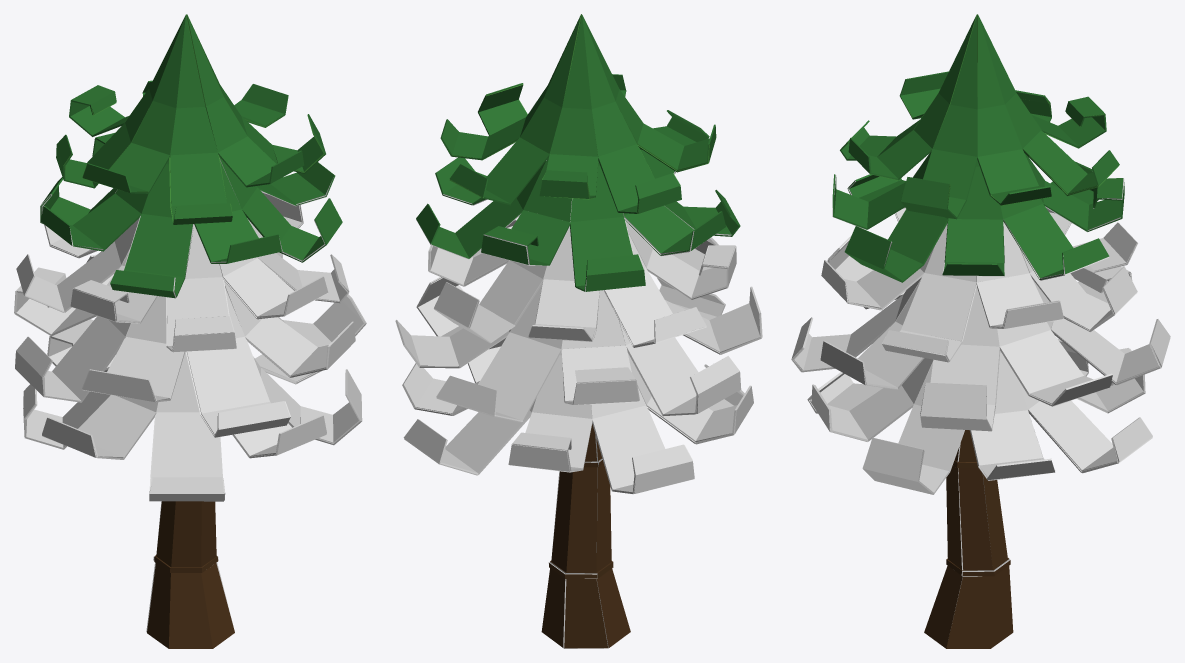
Rendered from Elka.fbx.
3 views of the same model, side by side, from view 1: azimuth 30°, elevation 25°; view 2: azimuth 150°, elevation 25°; view 3: azimuth 270°, elevation 25° (orthographic).
Visible parts, largest first — view 1: Cone.005, Cone.001, Cone.006, Cone.002, Cone.003, Cylinder.004; view 2: Cone.001, Cone.005, Cone.006, Cone.003, Cone.002, Cylinder.004; view 3: Cone.001, Cone.005, Cone.006, Cone.002, Cone.003, Cylinder.004.
Part boxes in pixels (bbox=[...]): Cone.005: bbox=[14, 252, 366, 437]; Cone.001: bbox=[56, 14, 325, 224]; Cone.006: bbox=[23, 319, 362, 501]; Cone.002: bbox=[40, 133, 342, 298]; Cone.003: bbox=[16, 192, 349, 352]; Cylinder.004: bbox=[146, 501, 234, 648]; Cone.001: bbox=[440, 14, 716, 213]; Cone.005: bbox=[395, 277, 762, 422]; Cone.006: bbox=[402, 338, 753, 494]; Cone.003: bbox=[428, 219, 736, 347]; Cone.002: bbox=[416, 148, 740, 291]; Cylinder.004: bbox=[541, 424, 630, 648]; Cone.001: bbox=[840, 14, 1119, 219]; Cone.005: bbox=[791, 266, 1170, 431]; Cone.006: bbox=[807, 338, 1152, 494]; Cone.002: bbox=[832, 152, 1124, 282]; Cone.003: bbox=[821, 207, 1137, 362]; Cylinder.004: bbox=[924, 430, 1013, 648].
Size of the model in its own units: 810 by 1539 by 854.
